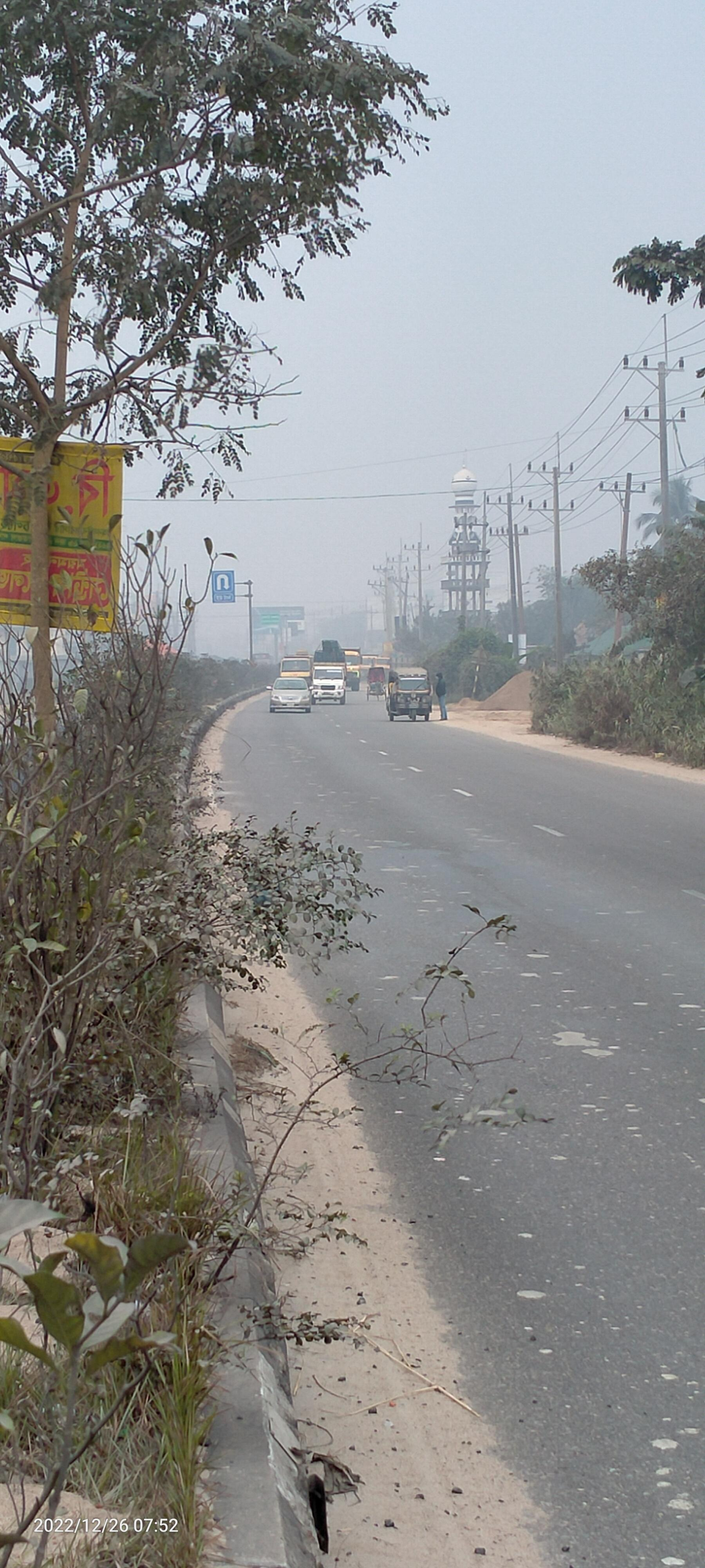Car: (311, 635, 350, 711), (274, 643, 318, 693), (267, 674, 314, 715)
Truck: (344, 645, 364, 696)
